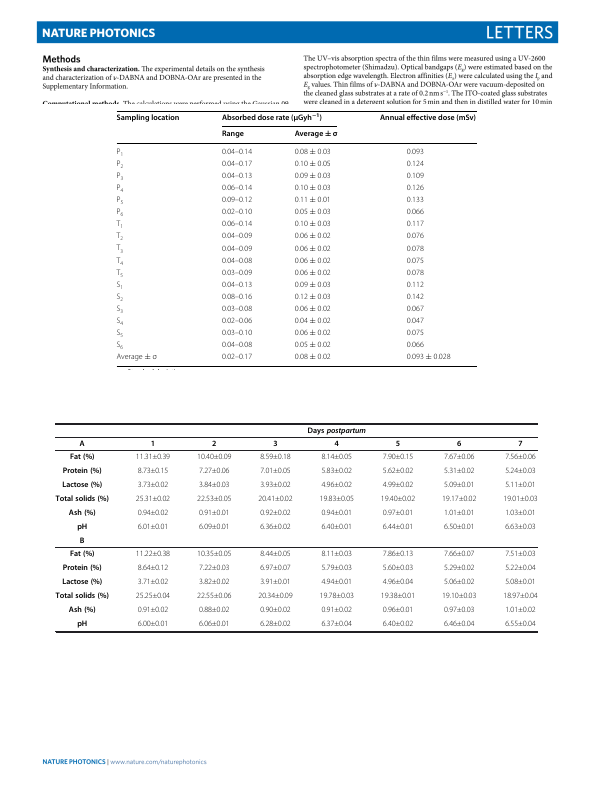borderless: (55, 422, 537, 631), (115, 109, 477, 366)
cell: (221, 112, 323, 123), (379, 113, 477, 123), (116, 113, 180, 123), (55, 494, 110, 504), (55, 591, 110, 601), (307, 426, 367, 435), (294, 129, 338, 139), (61, 480, 103, 490), (61, 577, 103, 587), (406, 353, 452, 362), (62, 466, 102, 476), (62, 563, 102, 573), (115, 353, 158, 362), (294, 147, 332, 157), (294, 159, 332, 169), (294, 268, 332, 278), (294, 280, 332, 290), (294, 172, 332, 181), (294, 184, 332, 193), (294, 196, 332, 205), (294, 208, 332, 217), (294, 220, 332, 229), (294, 232, 332, 241), (294, 244, 332, 253), (294, 256, 332, 265), (294, 293, 332, 302), (294, 305, 332, 314), (294, 317, 332, 326), (294, 329, 332, 338), (294, 341, 332, 350), (294, 353, 332, 362), (221, 147, 253, 157), (221, 159, 253, 169), (221, 268, 253, 278), (221, 280, 253, 290), (221, 172, 253, 181), (221, 184, 253, 193), (221, 196, 253, 205), (221, 208, 253, 217), (221, 220, 253, 229), (221, 232, 253, 241), (221, 244, 253, 253), (221, 256, 253, 265), (221, 293, 253, 302), (221, 305, 253, 314), (221, 317, 253, 326), (221, 329, 253, 338), (221, 341, 253, 350), (221, 353, 253, 362), (68, 508, 96, 518), (68, 605, 96, 615), (69, 452, 95, 462), (69, 549, 95, 559), (135, 453, 171, 460), (196, 453, 232, 460), (135, 495, 171, 502), (196, 495, 232, 502), (257, 495, 293, 502), (319, 495, 355, 502), (380, 495, 416, 502), (441, 495, 477, 502), (502, 495, 538, 502), (135, 550, 171, 557), (196, 550, 232, 557), (135, 592, 171, 599), (196, 592, 232, 599), (257, 592, 293, 599), (319, 592, 355, 599), (380, 592, 416, 599), (441, 592, 477, 599), (502, 592, 538, 599), (221, 129, 245, 139), (259, 453, 292, 460), (320, 453, 353, 460), (504, 453, 537, 460), (259, 467, 292, 474), (320, 467, 353, 474), (504, 467, 537, 474), (259, 481, 292, 488), (320, 481, 353, 488), (504, 481, 537, 488), (259, 509, 292, 516), (320, 509, 353, 516), (504, 509, 537, 516), (259, 523, 292, 530), (320, 523, 353, 530), (504, 523, 537, 530), (259, 550, 292, 557), (320, 550, 353, 557), (504, 550, 537, 557), (259, 564, 292, 571), (320, 564, 353, 571), (504, 564, 537, 571), (259, 578, 292, 585), (320, 578, 353, 585), (504, 578, 537, 585), (259, 606, 292, 613), (320, 606, 353, 613), (504, 606, 537, 613), (259, 620, 292, 627), (320, 620, 353, 627), (504, 620, 537, 627), (382, 453, 414, 460), (443, 453, 475, 460), (137, 467, 169, 474), (198, 467, 230, 474), (382, 467, 414, 474), (443, 467, 475, 474), (137, 481, 169, 488), (198, 481, 230, 488), (382, 481, 414, 488), (443, 481, 475, 488), (137, 509, 169, 516), (198, 509, 230, 516), (382, 509, 414, 516), (443, 509, 475, 516), (137, 523, 169, 530), (198, 523, 230, 530), (382, 523, 414, 530), (443, 523, 475, 530), (382, 550, 414, 557), (443, 550, 475, 557), (137, 564, 169, 571), (198, 564, 230, 571), (382, 564, 414, 571), (443, 564, 475, 571), (137, 578, 169, 585), (198, 578, 230, 585), (382, 578, 414, 585), (443, 578, 475, 585), (137, 606, 169, 613), (198, 606, 230, 613), (382, 606, 414, 613), (443, 606, 475, 613), (137, 620, 169, 627), (198, 620, 230, 627), (382, 620, 414, 627), (443, 620, 475, 627), (406, 147, 425, 157), (406, 159, 425, 169), (406, 268, 425, 278), (406, 280, 425, 290), (406, 172, 425, 181), (406, 184, 425, 193), (406, 196, 425, 205), (406, 208, 425, 217), (406, 220, 425, 229), (406, 232, 425, 241), (406, 244, 425, 253), (406, 256, 425, 265), (406, 293, 425, 302), (406, 305, 425, 314), (406, 317, 425, 326), (406, 329, 425, 338), (406, 341, 425, 350), (76, 522, 88, 532), (76, 619, 88, 629), (115, 220, 124, 231), (115, 232, 124, 243), (115, 244, 124, 255), (115, 256, 124, 267), (115, 268, 124, 279), (115, 280, 124, 291), (115, 329, 124, 340), (115, 341, 124, 352), (115, 293, 124, 303), (115, 305, 124, 315), (115, 317, 124, 327), (116, 147, 124, 158), (116, 159, 124, 170), (116, 208, 124, 219), (116, 172, 124, 182), (116, 184, 124, 194), (116, 196, 124, 206), (79, 439, 86, 449), (333, 439, 340, 449), (150, 439, 156, 449), (211, 439, 217, 449), (272, 439, 278, 449), (395, 439, 401, 449), (456, 439, 462, 449), (517, 439, 523, 449), (79, 536, 85, 546)
